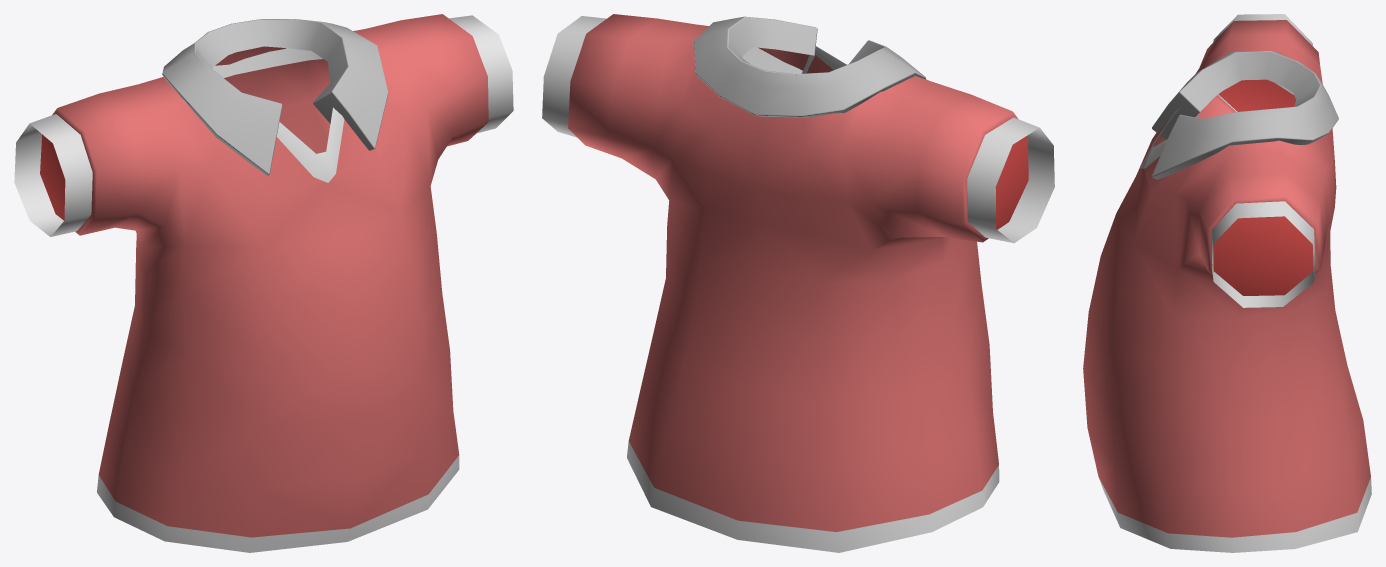
The model's file is Outerwear_Red_011.glb.
The picture shows the model from 3 angles, left to right: view 1: azimuth 30°, elevation 25°; view 2: azimuth 150°, elevation 25°; view 3: azimuth 270°, elevation 25°; orthographic projection. The views are drawn at different scales.
Parts seen in each view (by area): view 1: Outerwear_Red_011; view 2: Outerwear_Red_011; view 3: Outerwear_Red_011.
Boxes of the visible parts, x1,y1,x2,y2 form: Outerwear_Red_011: (14, 14, 513, 552); Outerwear_Red_011: (542, 14, 1054, 552); Outerwear_Red_011: (1083, 14, 1371, 552).
Size of the model in its own units: 0.6893 by 0.6487 by 0.41.
1 material, 1 textured.
